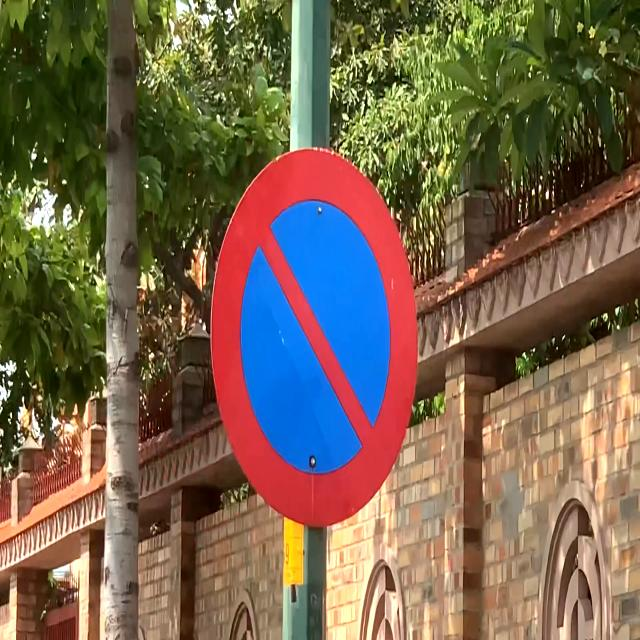P.131a: (204, 134, 419, 541)
